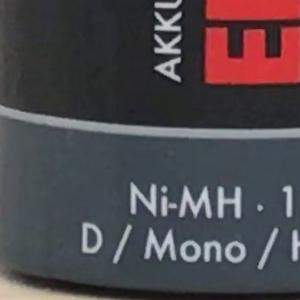NIMH: (121, 177, 250, 225)
